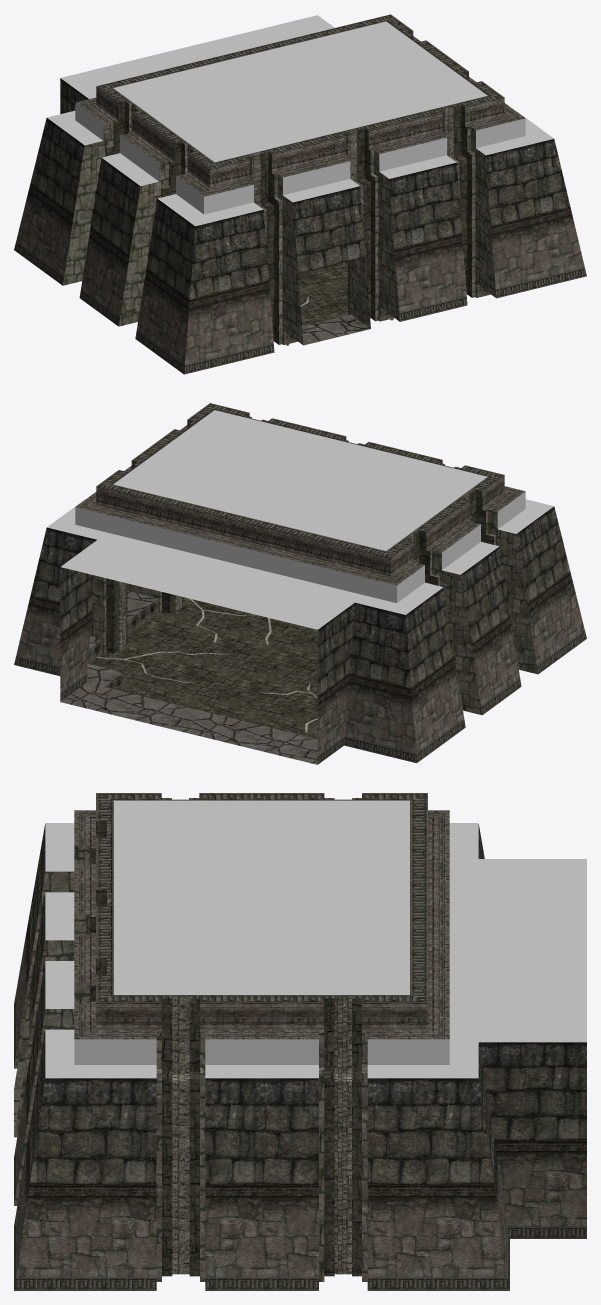
File: thm_yavn_temple_exar_kun_r15_mesh_r15.fbx
3 renders of one model, top to bottom at view 1: azimuth 30°, elevation 25°; view 2: azimuth 150°, elevation 25°; view 3: azimuth 270°, elevation 25°, orthographic. The views are drawn at different scales.
Visible parts, largest first — view 1: mesh_node; view 2: mesh_node; view 3: mesh_node.
Boxes of the visible parts, x1,y1,x2,y2 form: mesh_node: [14, 14, 586, 374]; mesh_node: [14, 403, 586, 764]; mesh_node: [14, 793, 586, 1290].
Size of the model in its own units: 12.52 by 5.56 by 10.58.
